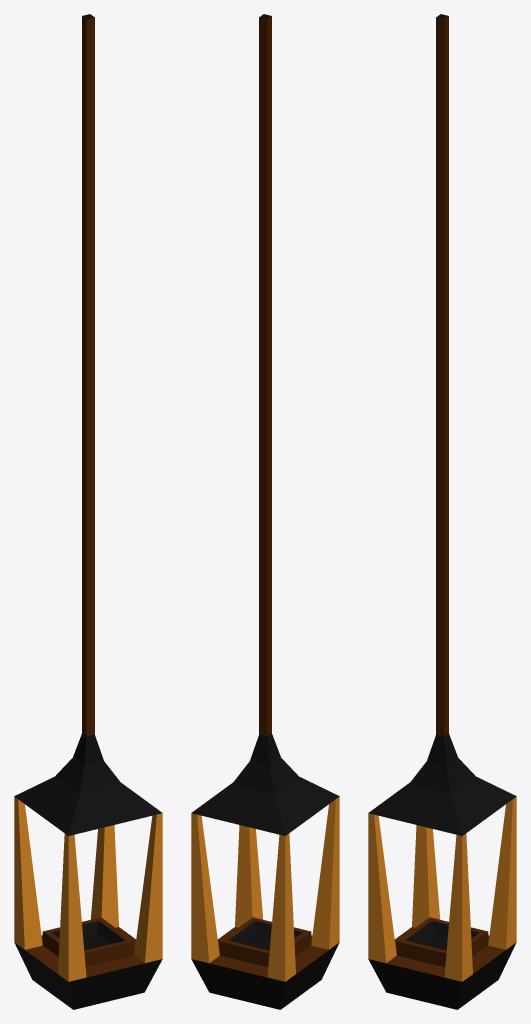
Rendered from flashlight.fbx.
3 views of the same model, side by side, from view 1: azimuth 30°, elevation 25°; view 2: azimuth 150°, elevation 25°; view 3: azimuth 330°, elevation 25° (orthographic).
Parts seen in each view (by area): view 1: Куб; view 2: Куб; view 3: Куб.
Boxes of the visible parts, x1=… form: Куб: x1=14, y1=14, x2=162, y2=1009; Куб: x1=191, y1=14, x2=339, y2=1009; Куб: x1=368, y1=14, x2=516, y2=1009.
Bounding box in the file's own units: 0.5211 × 5.12 × 0.5211.
